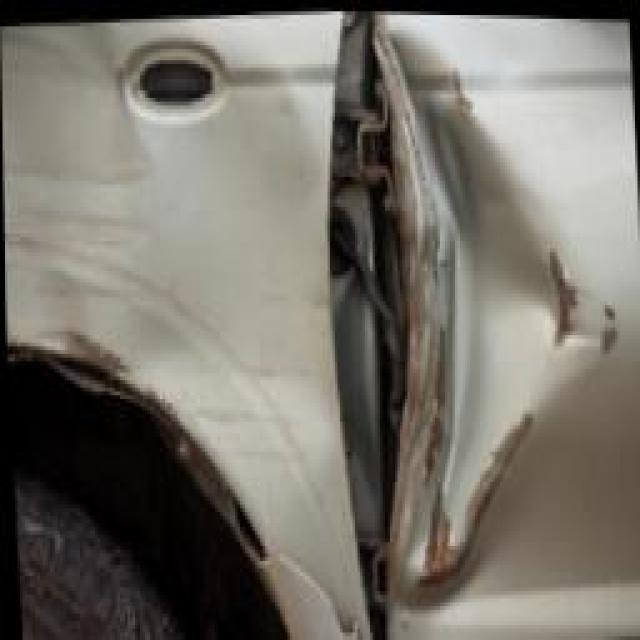Door: (360, 11, 640, 627)
